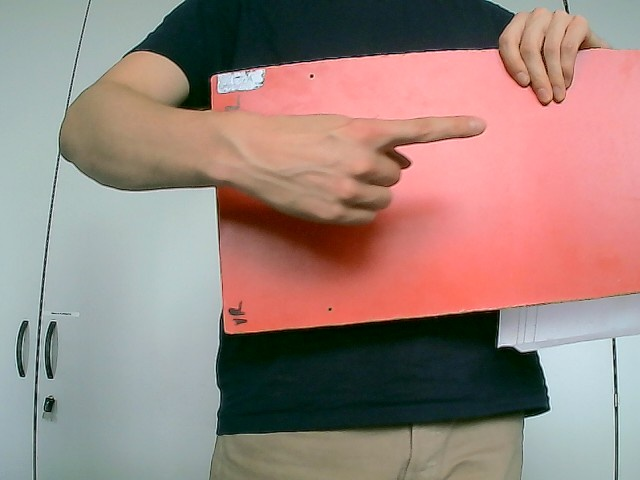left: (214, 109, 487, 227)
no_gesture: (498, 8, 594, 109)
